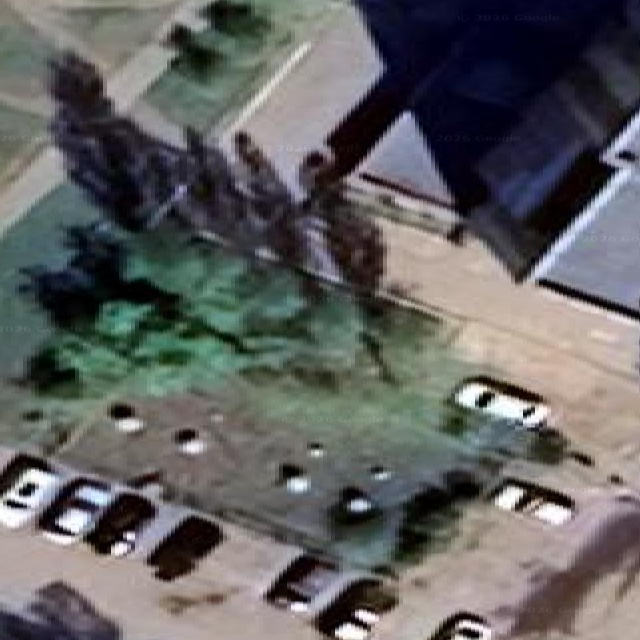car: (453, 376, 549, 428), (316, 578, 396, 639), (39, 479, 112, 544), (85, 493, 156, 556), (265, 553, 339, 612), (0, 456, 58, 528), (491, 479, 574, 525), (431, 613, 493, 639)
